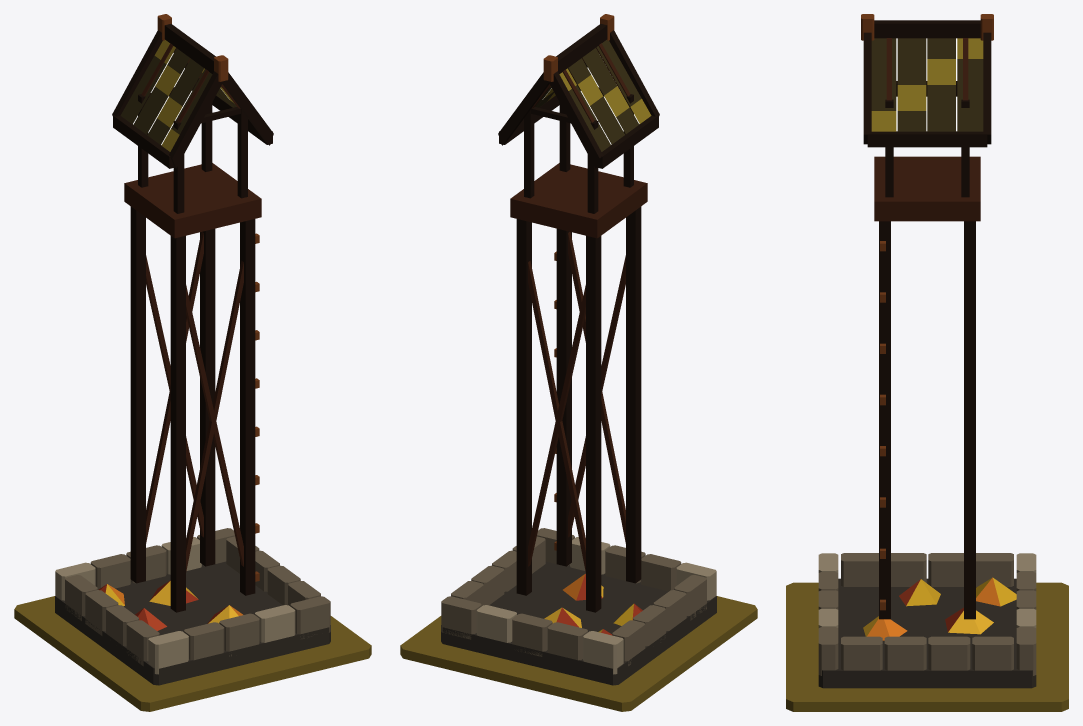
Rendered from tower_t5.glb.
The picture shows the model from 3 angles, left to right: view 1: azimuth 30°, elevation 25°; view 2: azimuth 150°, elevation 25°; view 3: azimuth 270°, elevation 25°; orthographic projection. The views are drawn at different scales.
Parts seen in each view (by area): view 1: MMR | tower | T05 Architecture.001, MMR | tower | Tier 05 Ground.001, MMR | tower | T05 Roof Supports.001, MMR | tower | T05 Autumn Dressing.001; view 2: MMR | tower | T05 Architecture.001, MMR | tower | Tier 05 Ground.001, MMR | tower | T05 Roof Supports.001, MMR | tower | T05 Autumn Dressing.001; view 3: MMR | tower | T05 Architecture.001, MMR | tower | Tier 05 Ground.001, MMR | tower | T05 Autumn Dressing.001, MMR | tower | T05 Roof Supports.001.
Part boxes in pixels (<box>): MMR | tower | T05 Architecture.001: <box>55,14,330,685</box>; MMR | tower | Tier 05 Ground.001: <box>14,596,371,711</box>; MMR | tower | T05 Roof Supports.001: <box>138,43,247,213</box>; MMR | tower | T05 Autumn Dressing.001: <box>98,580,242,630</box>; MMR | tower | T05 Architecture.001: <box>441,14,716,685</box>; MMR | tower | Tier 05 Ground.001: <box>400,596,757,711</box>; MMR | tower | T05 Roof Supports.001: <box>524,43,633,213</box>; MMR | tower | T05 Autumn Dressing.001: <box>544,574,642,635</box>; MMR | tower | T05 Architecture.001: <box>818,14,1036,688</box>; MMR | tower | Tier 05 Ground.001: <box>786,582,1068,711</box>; MMR | tower | T05 Autumn Dressing.001: <box>863,577,1016,640</box>; MMR | tower | T05 Roof Supports.001: <box>885,38,969,197</box>.
Bounding box in the file's own units: 1.3 × 3.22 × 1.3.
1 material, 1 textured.
